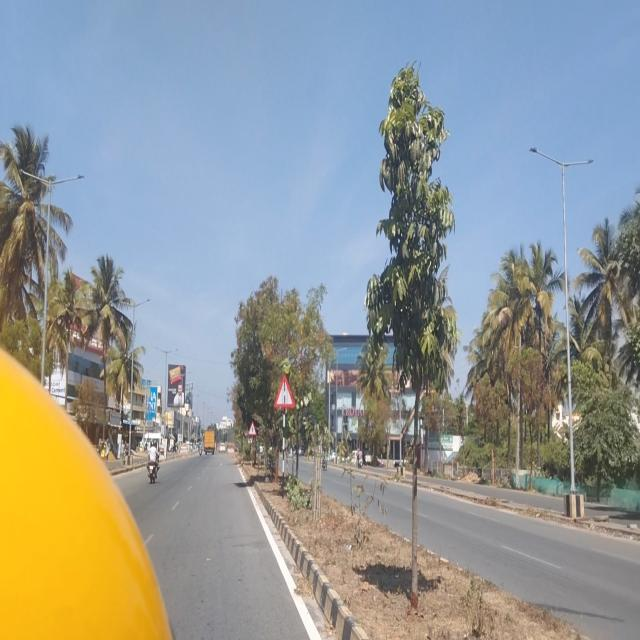bien_cam: (274, 373, 295, 410), (248, 421, 256, 436), (243, 428, 250, 437)
